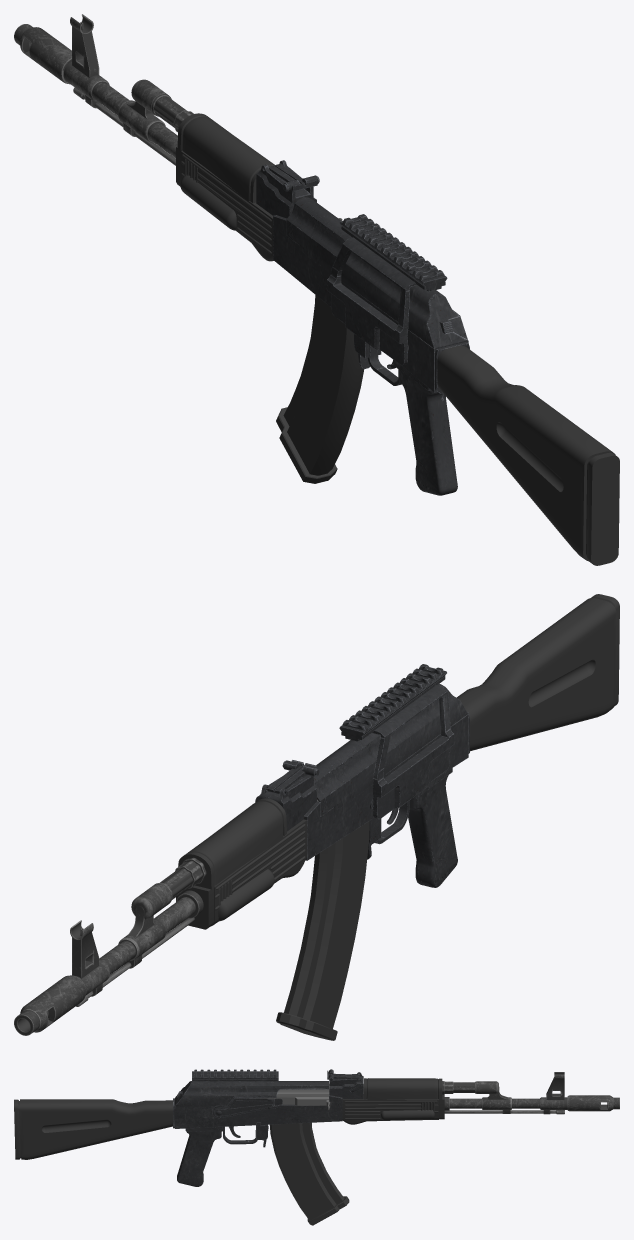
3 renders of one model, top to bottom at view 1: azimuth 30°, elevation 25°; view 2: azimuth 150°, elevation 25°; view 3: azimuth 270°, elevation 25°, orthographic. The views are drawn at different scales.
Visible parts, largest first — view 1: Kalash.001_8, Kalash.058_28, Kalash.024_25, Kalash.008_15, Kalash.060_30, Kalash.003_10, Kalash.016_21, Kalash_7, Kalash.013_19, Kalash.015_20, Kalash.046_27, Kalash.061_31; view 2: Kalash.001_8, Kalash.058_28, Kalash.024_25, Kalash.008_15, Kalash.060_30, Kalash.016_21, Kalash.003_10, Kalash.013_19, Kalash_7, Kalash.015_20, Kalash.046_27, Kalash.061_31; view 3: Kalash.001_8, Kalash.058_28, Kalash.024_25, Kalash_7, Kalash.008_15, Kalash.013_19, Kalash.016_21, Kalash.003_10, Kalash.010_17, Kalash.009_16, Kalash.046_27, Kalash.061_31 (+1 smaller).
Part boxes in pixels (x1,y1,x2,y2): Kalash.001_8: (437,345,619,565); Kalash.058_28: (276,295,364,483); Kalash.024_25: (14,14,193,165); Kalash.008_15: (286,197,467,348); Kalash.060_30: (327,237,416,365); Kalash.003_10: (398,369,457,495); Kalash.016_21: (177,113,274,203); Kalash_7: (273,215,468,392); Kalash.013_19: (176,146,273,261); Kalash.015_20: (256,160,316,218); Kalash.046_27: (181,154,271,253); Kalash.061_31: (339,217,447,291); Kalash.001_8: (456,594,619,751); Kalash.058_28: (276,821,369,1040); Kalash.024_25: (14,857,206,1035); Kalash.008_15: (301,684,467,815); Kalash.060_30: (372,685,454,819); Kalash.016_21: (178,798,286,889); Kalash.003_10: (408,775,457,887); Kalash.013_19: (176,819,306,929); Kalash_7: (304,714,468,860); Kalash.015_20: (256,775,316,831); Kalash.046_27: (215,824,305,910); Kalash.061_31: (339,667,446,741); Kalash.001_8: (14,1099,172,1159); Kalash.058_28: (269,1122,349,1225); Kalash.024_25: (442,1072,619,1114); Kalash_7: (175,1095,342,1128); Kalash.008_15: (175,1081,328,1106); Kalash.013_19: (342,1094,444,1124); Kalash.016_21: (364,1078,442,1099); Kalash.003_10: (177,1131,221,1186); Kalash.010_17: (212,1098,282,1118); Kalash.009_16: (260,1084,363,1109); Kalash.046_27: (344,1100,438,1119); Kalash.061_31: (192,1071,278,1081).
Bounding box in the file's own units: 1.12 × 4.72 × 17.15.
4 materials, 2 textured.
